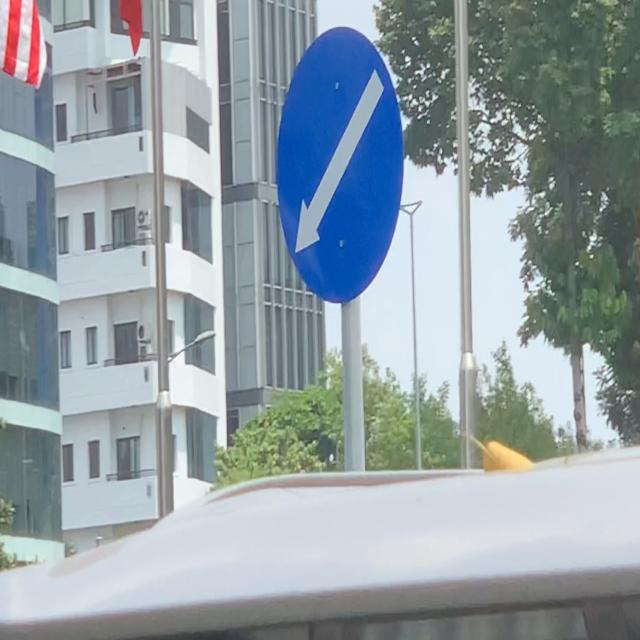Hieu lenh: (272, 22, 404, 316)
